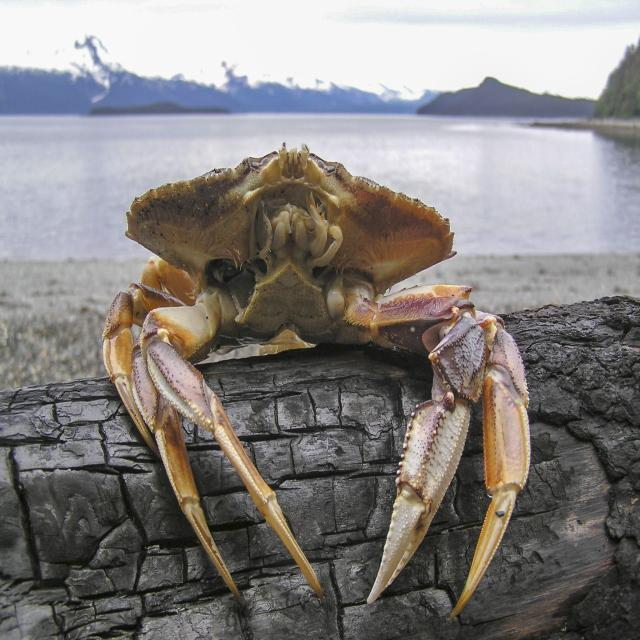crab: (127, 137, 471, 524)
